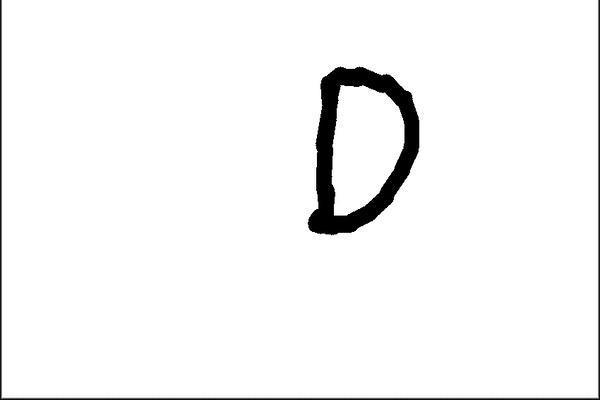D: (301, 59, 427, 243)
